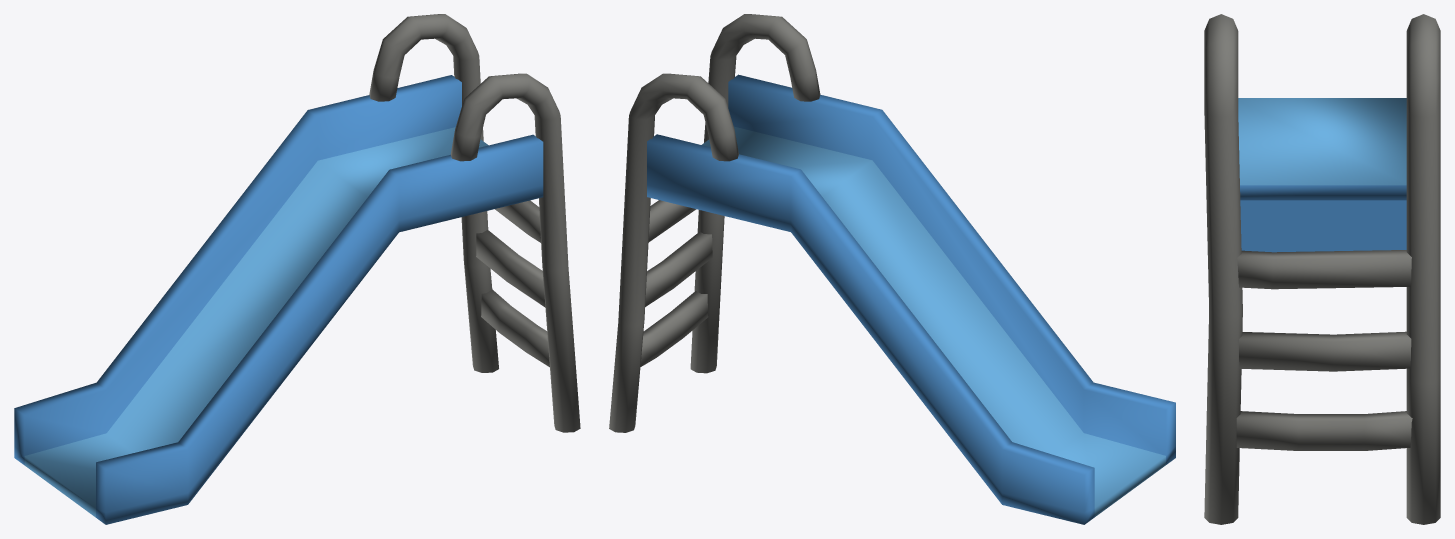
File: Slide.fbx
The picture shows the model from 3 angles, left to right: view 1: azimuth 30°, elevation 25°; view 2: azimuth 150°, elevation 25°; view 3: azimuth 270°, elevation 25°; orthographic projection. The views are drawn at different scales.
Visible parts, largest first — view 1: Plane.533; view 2: Plane.533; view 3: Plane.533.
Boxes of the visible parts, x1,y1,x2,y2 form: Plane.533: (14, 14, 580, 524); Plane.533: (609, 14, 1175, 524); Plane.533: (1204, 14, 1440, 524).
Size of the model in its own units: 386 by 284 by 133.
1 material, 1 textured.
